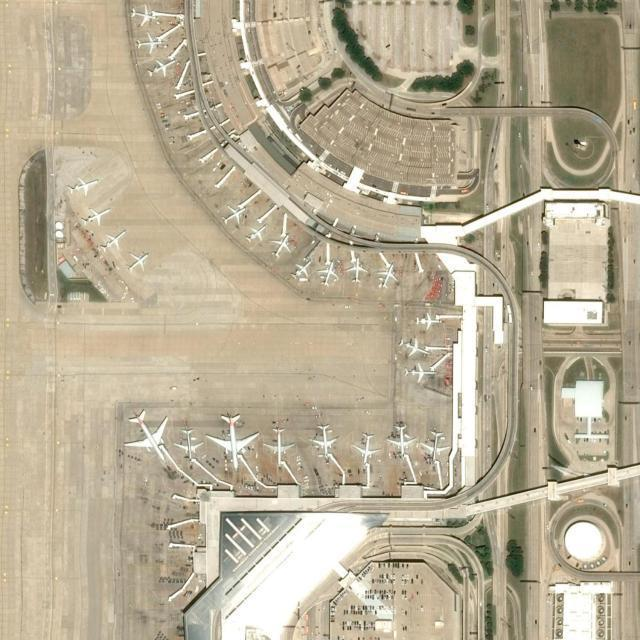Aircraft: (205, 414, 259, 470), (122, 410, 168, 462), (263, 428, 293, 464), (387, 423, 417, 457), (350, 432, 380, 466), (422, 432, 450, 466), (310, 424, 338, 458), (174, 428, 202, 462), (375, 261, 401, 289), (146, 57, 178, 79), (405, 363, 439, 383), (344, 256, 368, 284), (128, 3, 158, 25), (96, 231, 124, 254), (125, 248, 148, 276), (68, 175, 100, 195), (269, 233, 293, 259), (133, 33, 164, 53), (400, 337, 428, 359), (317, 258, 339, 286), (80, 205, 110, 225), (414, 310, 442, 330), (243, 222, 269, 243), (220, 203, 244, 225), (292, 258, 312, 280)
